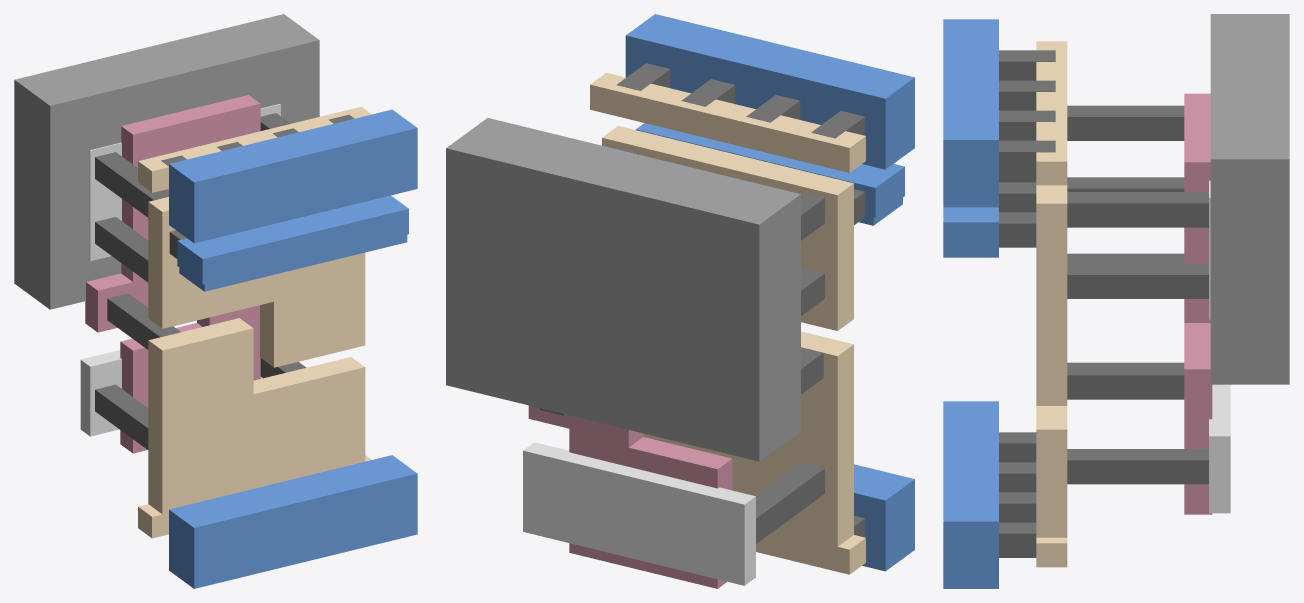
File: sky130_fd_sc_hd__lpflow_decapkapwr_4.gds.gltf
The picture shows the model from 3 angles, left to right: view 1: azimuth 30°, elevation 25°; view 2: azimuth 150°, elevation 25°; view 3: azimuth 270°, elevation 25°; orthographic projection. The views are drawn at different scales.
Visible parts, largest first — view 1: sky130_fd_sc_hd__lpflow_decapkapwr_4_met1, sky130_fd_sc_hd__lpflow_decapkapwr_4_li1, sky130_fd_sc_hd__lpflow_decapkapwr_4_nwell, sky130_fd_sc_hd__lpflow_decapkapwr_4_poly, sky130_fd_sc_hd__lpflow_decapkapwr_4_licon, sky130_fd_sc_hd__lpflow_decapkapwr_4_diff, sky130_fd_sc_hd__lpflow_decapkapwr_4_mcon; view 2: sky130_fd_sc_hd__lpflow_decapkapwr_4_nwell, sky130_fd_sc_hd__lpflow_decapkapwr_4_li1, sky130_fd_sc_hd__lpflow_decapkapwr_4_met1, sky130_fd_sc_hd__lpflow_decapkapwr_4_diff, sky130_fd_sc_hd__lpflow_decapkapwr_4_poly, sky130_fd_sc_hd__lpflow_decapkapwr_4_licon, sky130_fd_sc_hd__lpflow_decapkapwr_4_mcon; view 3: sky130_fd_sc_hd__lpflow_decapkapwr_4_nwell, sky130_fd_sc_hd__lpflow_decapkapwr_4_licon, sky130_fd_sc_hd__lpflow_decapkapwr_4_met1, sky130_fd_sc_hd__lpflow_decapkapwr_4_li1, sky130_fd_sc_hd__lpflow_decapkapwr_4_mcon, sky130_fd_sc_hd__lpflow_decapkapwr_4_poly, sky130_fd_sc_hd__lpflow_decapkapwr_4_diff.
Part boxes in pixels (left/top/right/bottom): sky130_fd_sc_hd__lpflow_decapkapwr_4_met1: left=169, top=109, right=417, bottom=588; sky130_fd_sc_hd__lpflow_decapkapwr_4_li1: left=138, top=106, right=371, bottom=538; sky130_fd_sc_hd__lpflow_decapkapwr_4_nwell: left=14, top=14, right=319, bottom=309; sky130_fd_sc_hd__lpflow_decapkapwr_4_poly: left=85, top=95, right=260, bottom=453; sky130_fd_sc_hd__lpflow_decapkapwr_4_licon: left=95, top=113, right=306, bottom=449; sky130_fd_sc_hd__lpflow_decapkapwr_4_diff: left=80, top=104, right=280, bottom=436; sky130_fd_sc_hd__lpflow_decapkapwr_4_mcon: left=161, top=114, right=354, bottom=258; sky130_fd_sc_hd__lpflow_decapkapwr_4_nwell: left=446, top=118, right=800, bottom=461; sky130_fd_sc_hd__lpflow_decapkapwr_4_li1: left=590, top=72, right=865, bottom=574; sky130_fd_sc_hd__lpflow_decapkapwr_4_met1: left=625, top=14, right=914, bottom=571; sky130_fd_sc_hd__lpflow_decapkapwr_4_diff: left=523, top=442, right=755, bottom=585; sky130_fd_sc_hd__lpflow_decapkapwr_4_poly: left=528, top=405, right=732, bottom=588; sky130_fd_sc_hd__lpflow_decapkapwr_4_licon: left=539, top=146, right=824, bottom=543; sky130_fd_sc_hd__lpflow_decapkapwr_4_mcon: left=617, top=63, right=865, bottom=537; sky130_fd_sc_hd__lpflow_decapkapwr_4_nwell: left=1210, top=14, right=1289, bottom=384; sky130_fd_sc_hd__lpflow_decapkapwr_4_licon: left=1067, top=105, right=1208, bottom=484; sky130_fd_sc_hd__lpflow_decapkapwr_4_met1: left=943, top=19, right=998, bottom=588; sky130_fd_sc_hd__lpflow_decapkapwr_4_li1: left=1036, top=41, right=1067, bottom=567; sky130_fd_sc_hd__lpflow_decapkapwr_4_mcon: left=999, top=50, right=1055, bottom=557; sky130_fd_sc_hd__lpflow_decapkapwr_4_poly: left=1184, top=93, right=1212, bottom=514; sky130_fd_sc_hd__lpflow_decapkapwr_4_diff: left=1209, top=180, right=1230, bottom=513.
Size of the model in its own units: 2.22 by 3.2 by 2.24.
